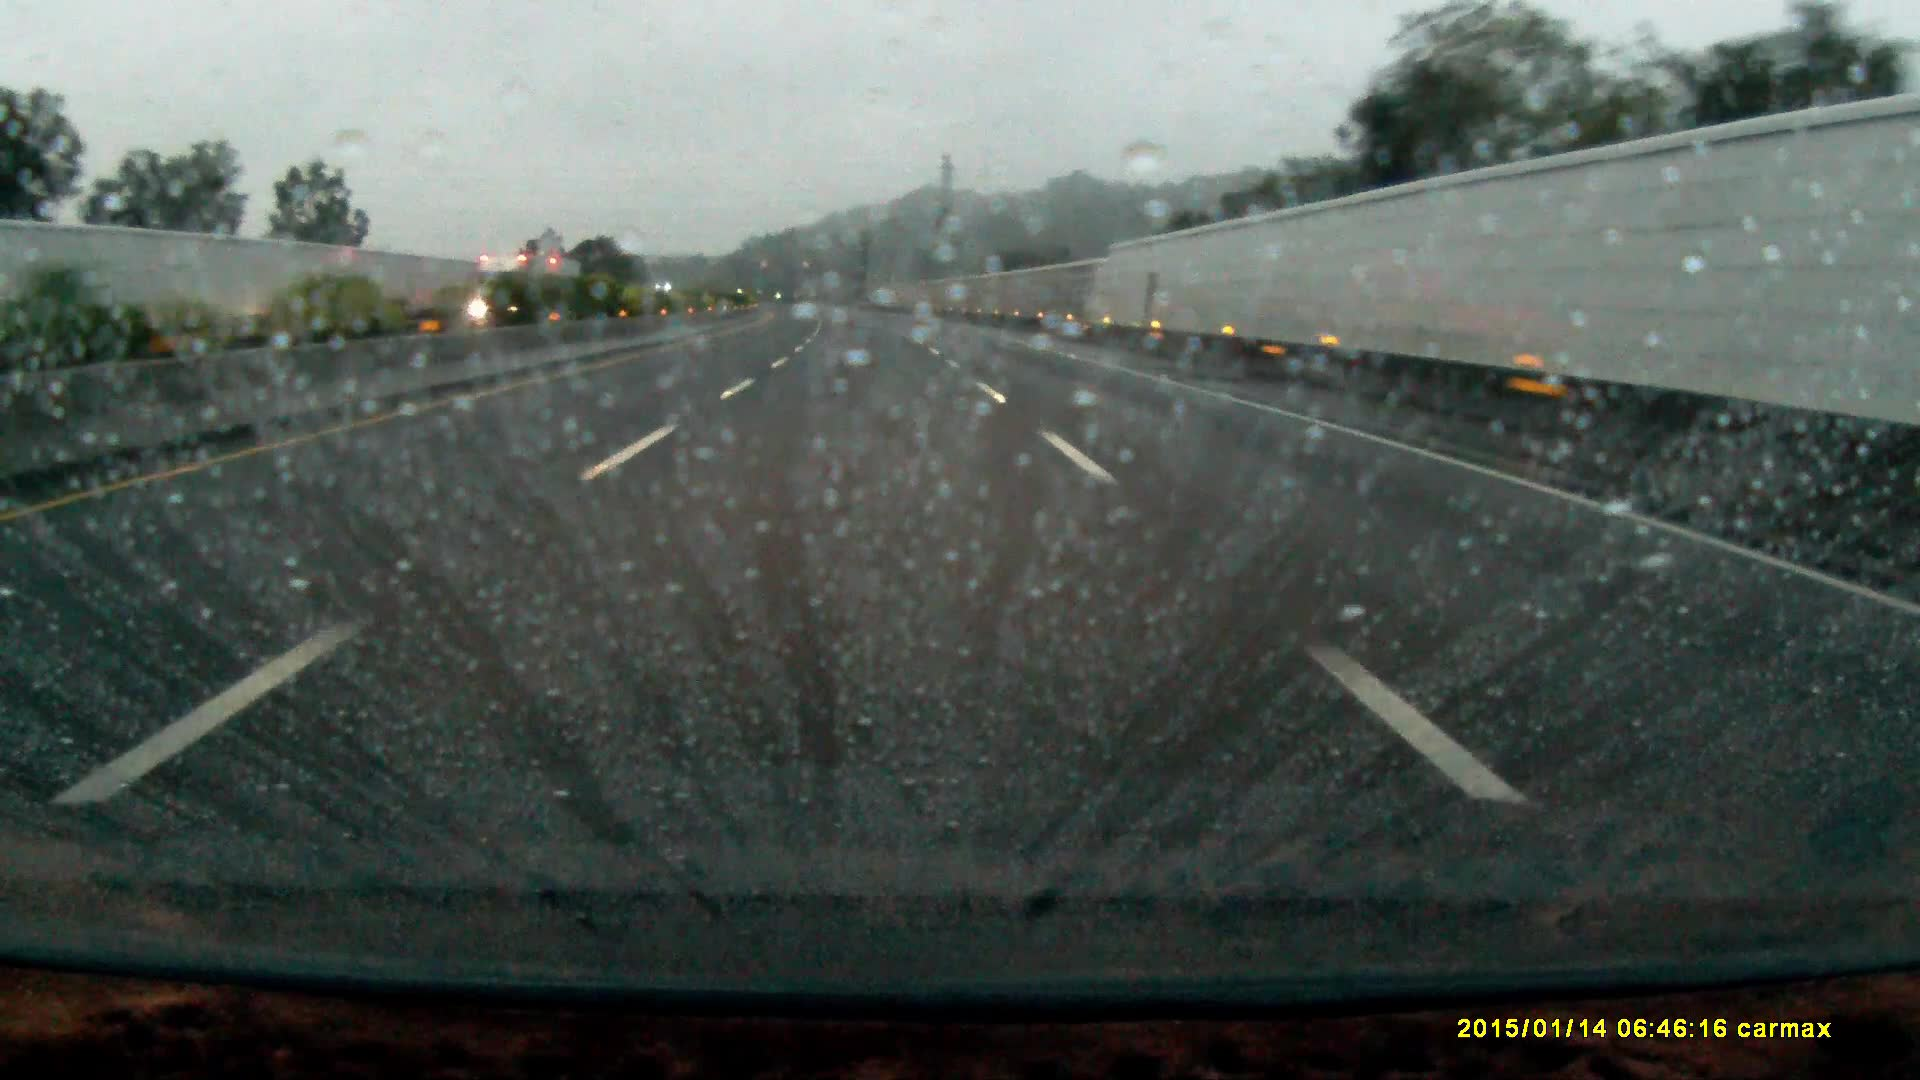vehicle: (469, 248, 578, 315)
